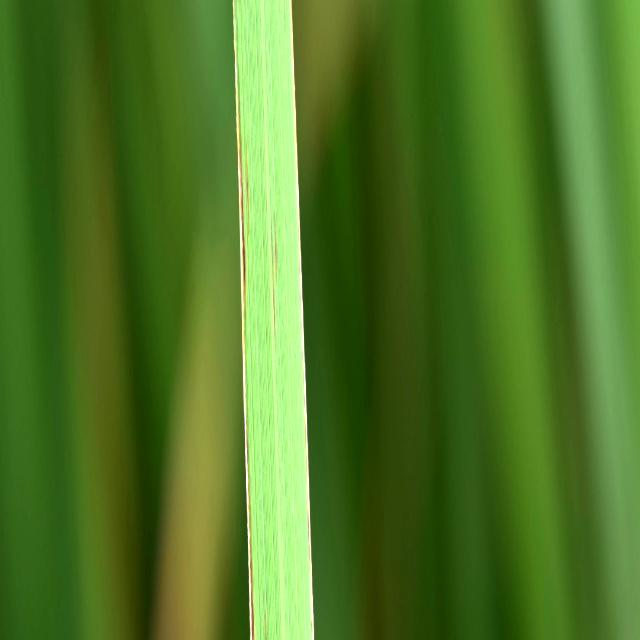BLS: (243, 360, 255, 640), (236, 28, 245, 360), (245, 141, 250, 244), (271, 216, 275, 344), (274, 207, 277, 280), (265, 614, 267, 640)
